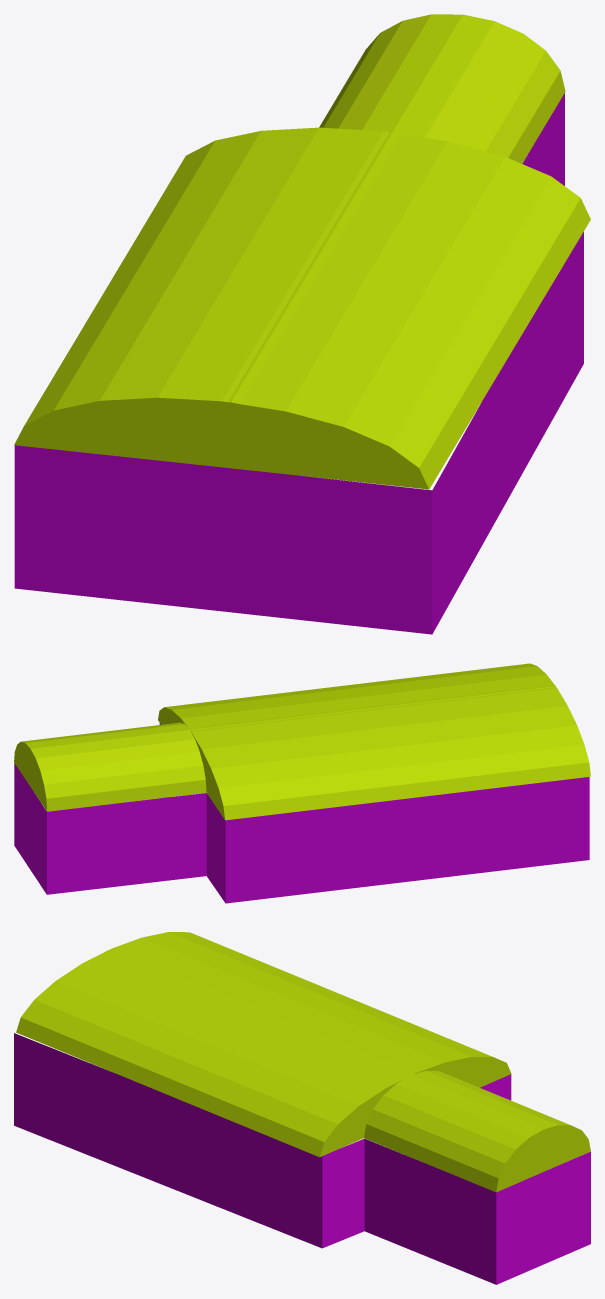
The model's file is dol_71.glb.
3 renders of one model, top to bottom at view 1: azimuth 30°, elevation 25°; view 2: azimuth 150°, elevation 25°; view 3: azimuth 270°, elevation 25°, orthographic. The views are drawn at different scales.
Visible parts, largest first — view 1: dol_71; view 2: dol_71; view 3: dol_71.
Part boxes in pixels (x1,y1,x2,y2): dol_71: (14,14,590,634); dol_71: (14,663,590,903); dol_71: (14,932,590,1284).
Bounding box in the file's own units: 49.2 × 12.74 × 49.31.
